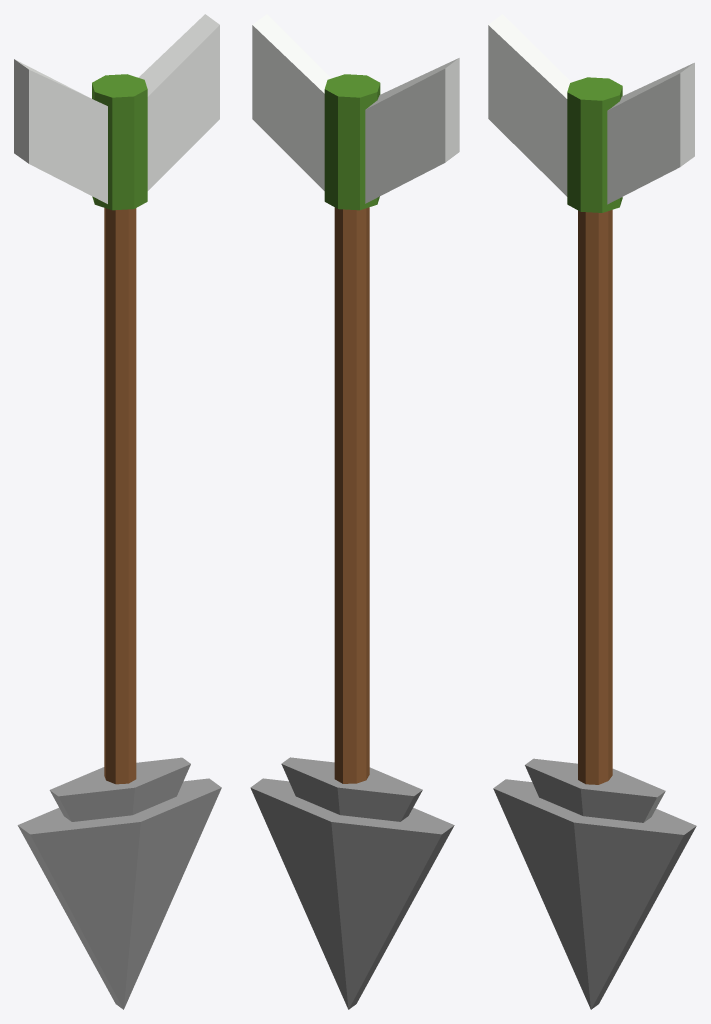
File: Arrow.fbx
3 renders of one model, left to right at view 1: azimuth 30°, elevation 25°; view 2: azimuth 150°, elevation 25°; view 3: azimuth 330°, elevation 25°, orthographic.
Visible parts, largest first — view 1: Cylinder; view 2: Cylinder; view 3: Cylinder.
Part boxes in pixels (x1,y1,x2,y2): Cylinder: [14, 14, 221, 1009]; Cylinder: [250, 14, 459, 1009]; Cylinder: [488, 14, 696, 1009].
Bounding box in the file's own units: 27.87 × 132 × 10.47.
